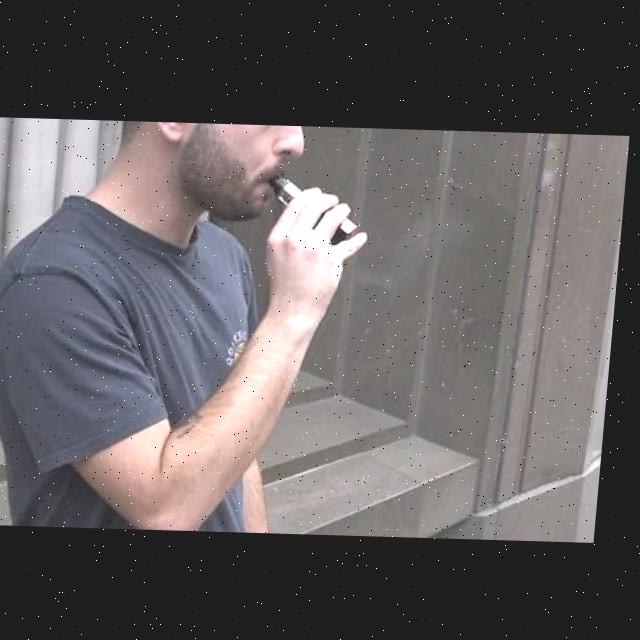vape: (270, 173, 364, 242)
